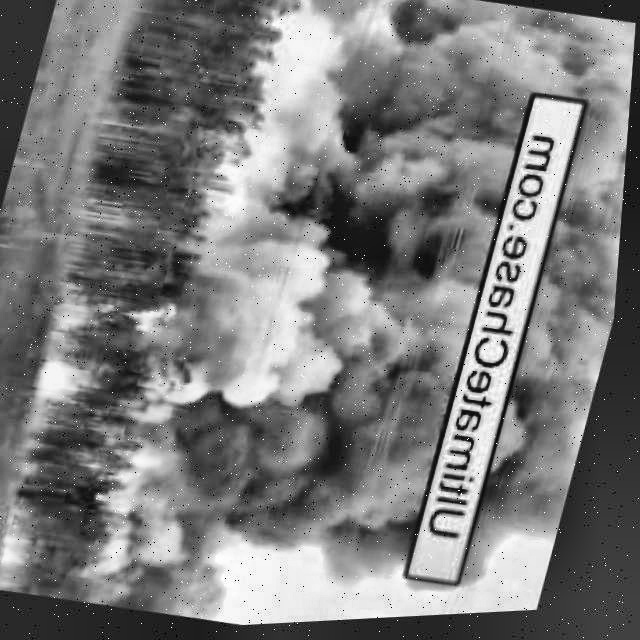Fire: (38, 284, 166, 419), (128, 441, 185, 481), (3, 521, 46, 568)
Smoke: (129, 0, 556, 601), (472, 26, 637, 609)
